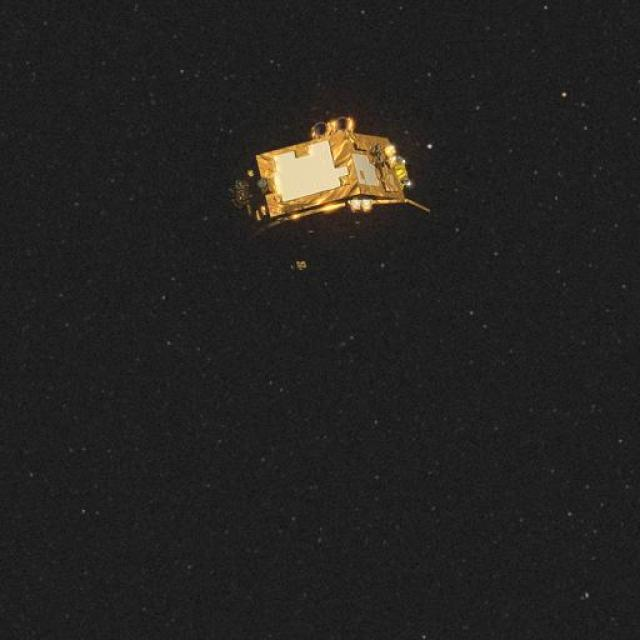lisa_pathfinder: (178, 115, 474, 283)
